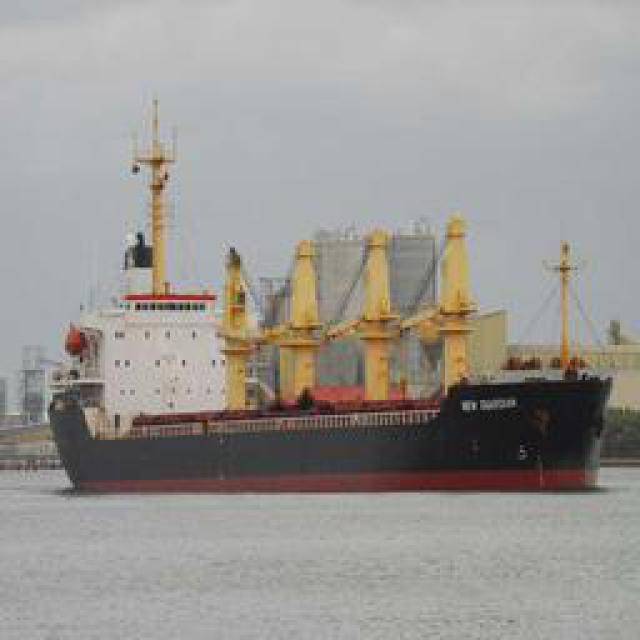Ship: (45, 91, 620, 500)
